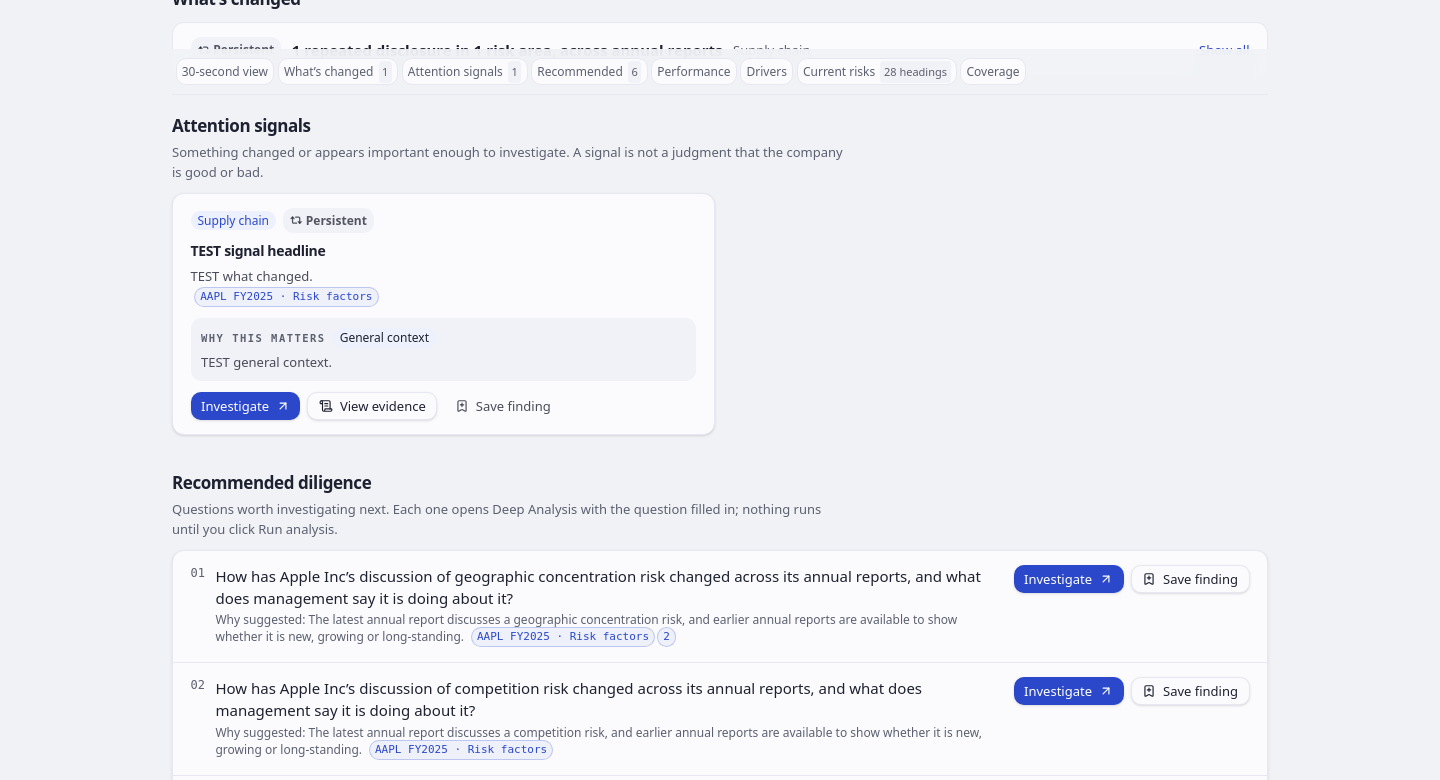
it: Company Intelligence › signals: Investigate prefills, View evidence shows each period, Save finding saves it
(page scrolled)
Expected: the text "General context" is shown, [333,328,436,348]
Click the button "View evidence". click: (372, 406)
box: [308,392,437,420]
(page scrolled)
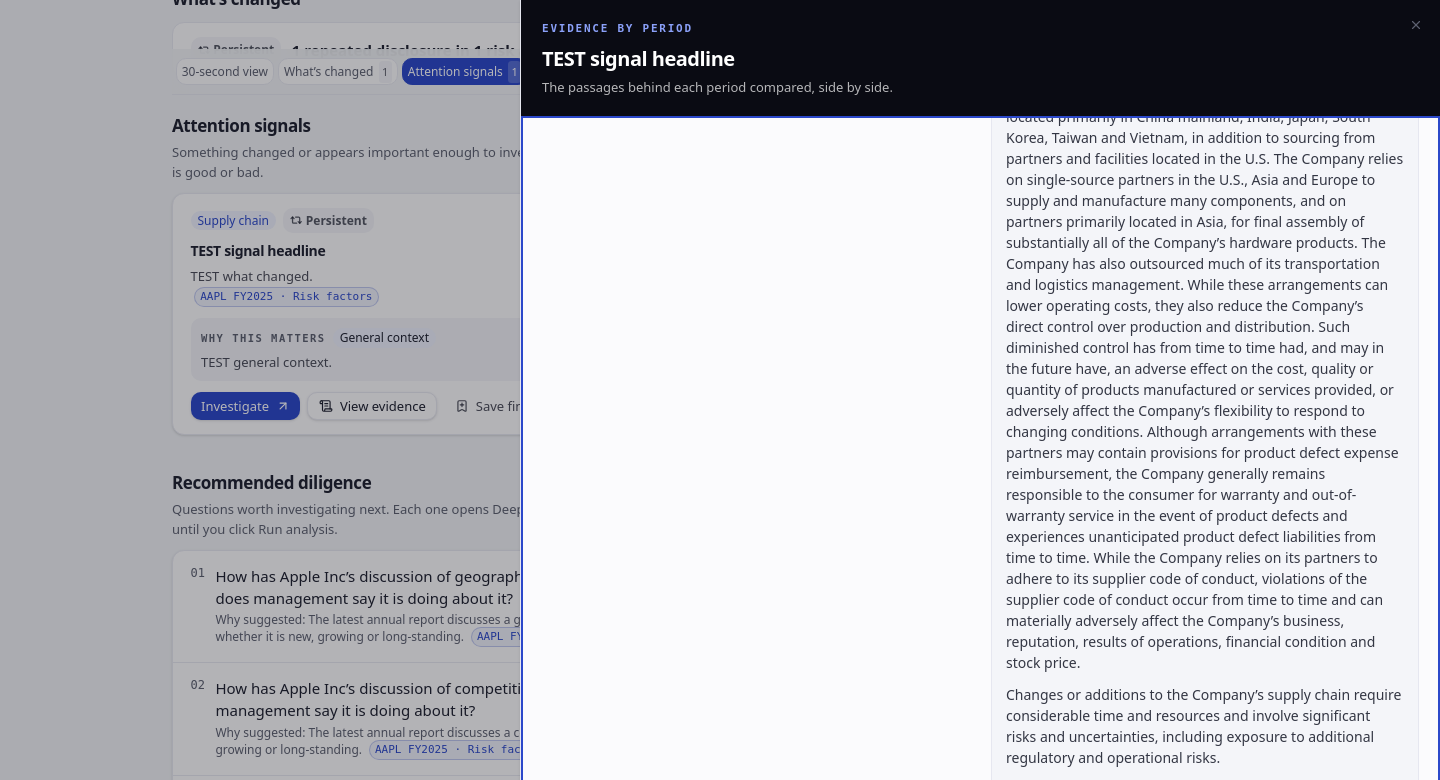
Expected: the dialog shows "Evidence by period", [542,22,693,34]
Press Escape
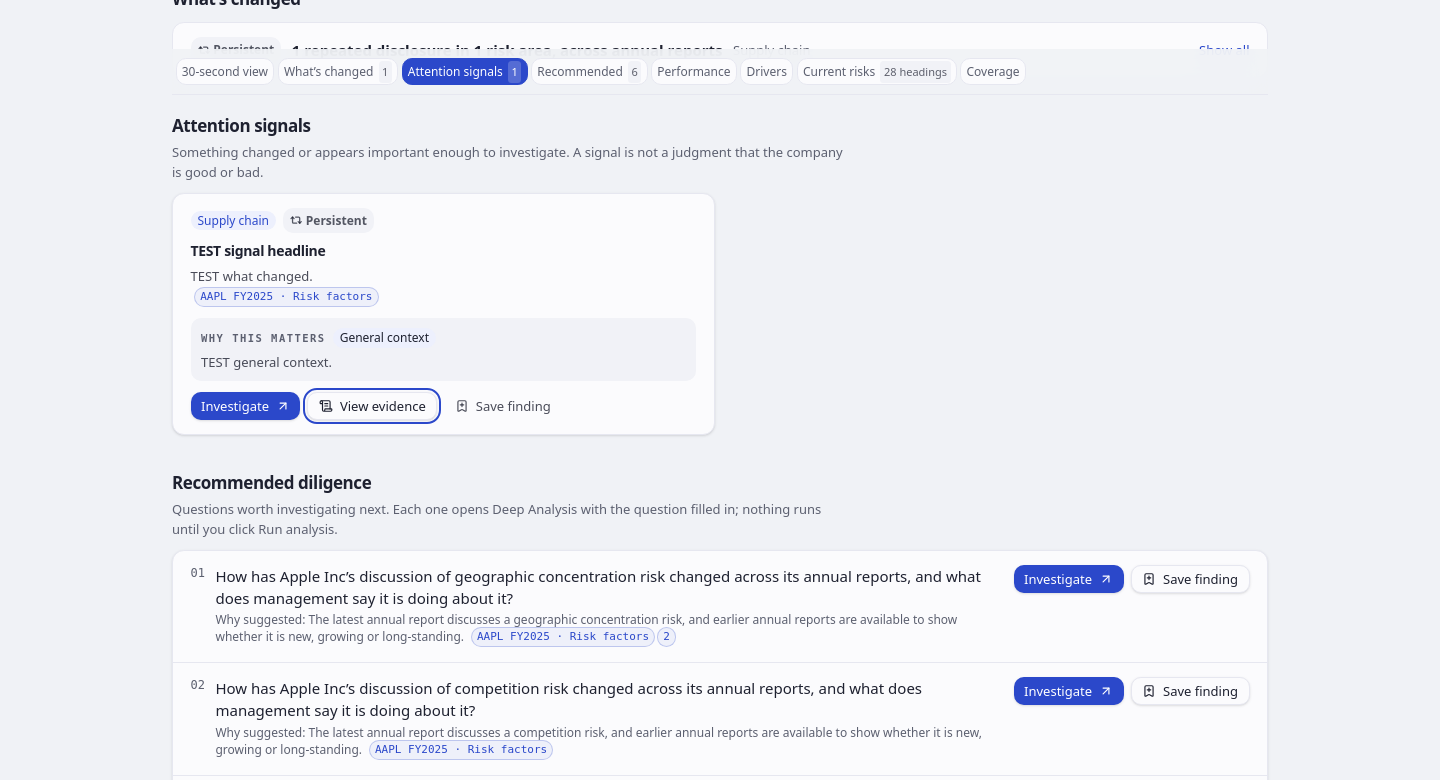
Click the button "Save finding" below "TEST signal headline". click: (503, 406)
box: [444,392,561,420]
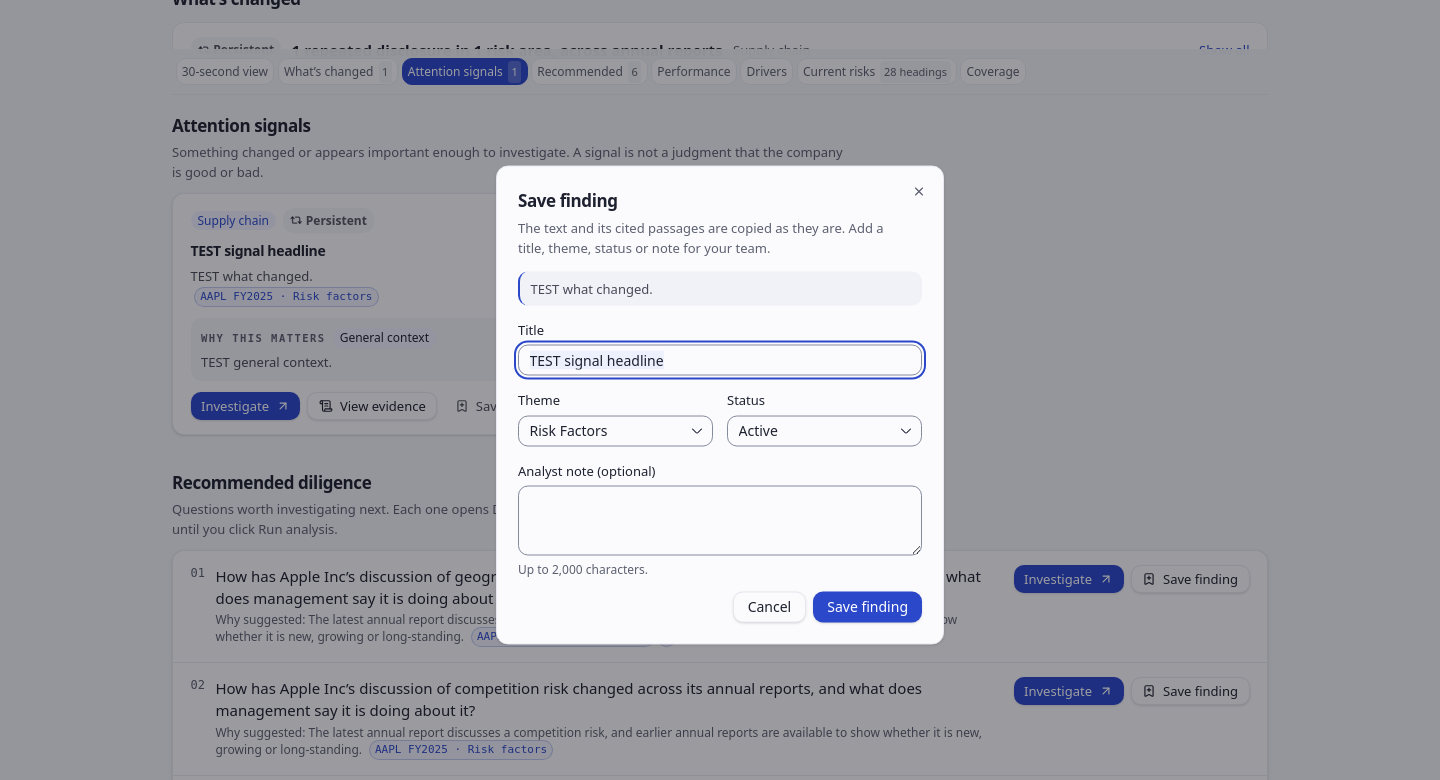
Expected: the dropdown labelled "Theme" shows "Risk Factors", [518,415,713,446]
Click the button "Save finding". click: (868, 607)
box: [813,591,922,622]
(page scrolled)
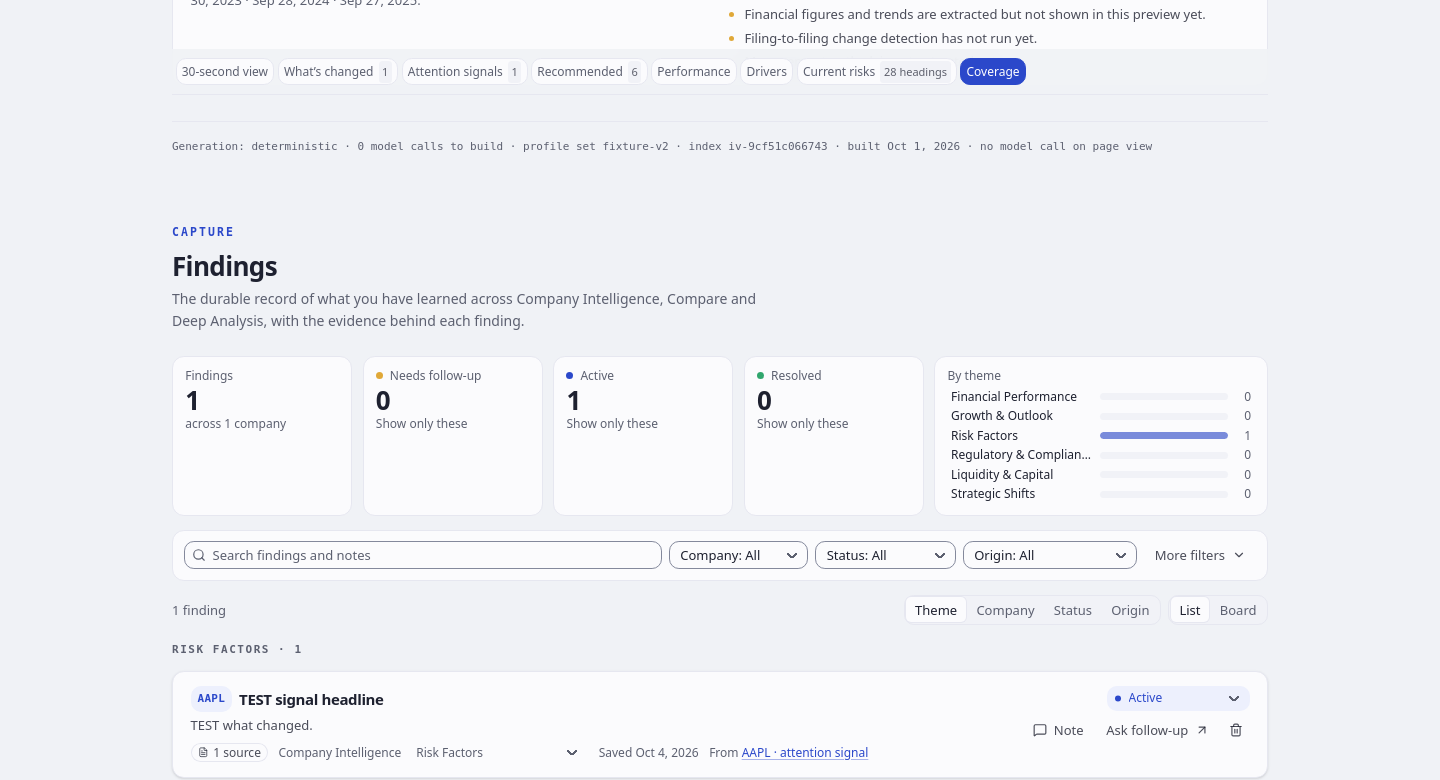
Expected: the text "1 finding" is shown, [172,600,226,620]
